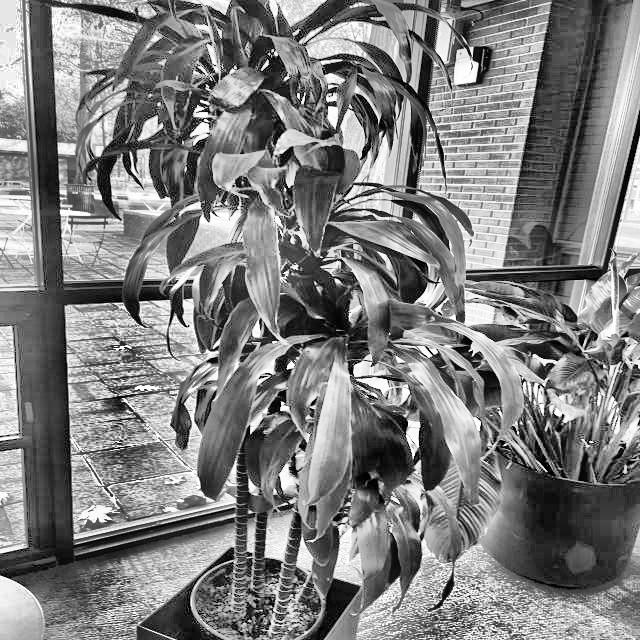plants: (117, 0, 524, 631), (493, 263, 640, 488)
